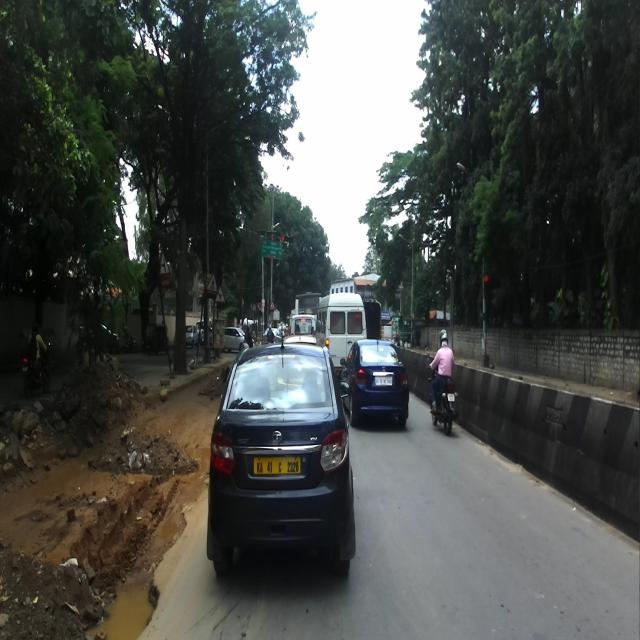Car_Honda: (338, 332, 410, 431)
Car_Skoda: (222, 326, 254, 352)
Car_TATA: (206, 320, 358, 584), (183, 325, 198, 347)
mini-bus: (317, 290, 367, 377)
motorcycle_Hero: (427, 354, 458, 434)
